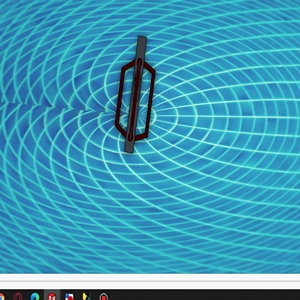submarine: (115, 33, 159, 158)
